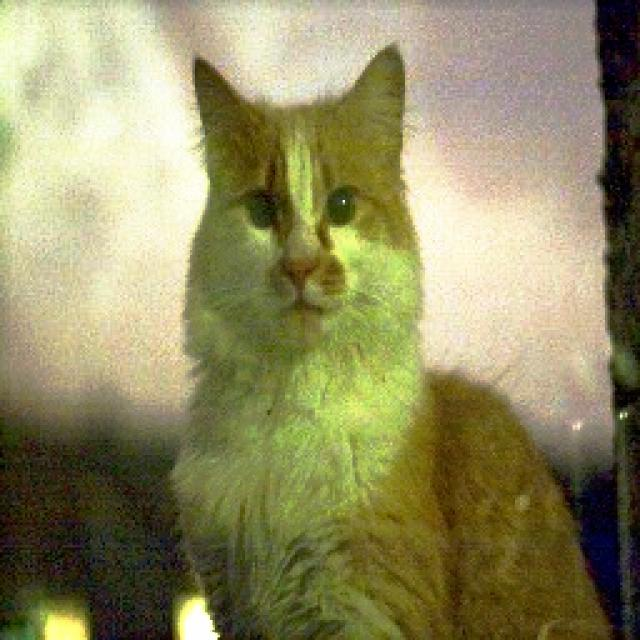cat: (138, 40, 604, 640)
